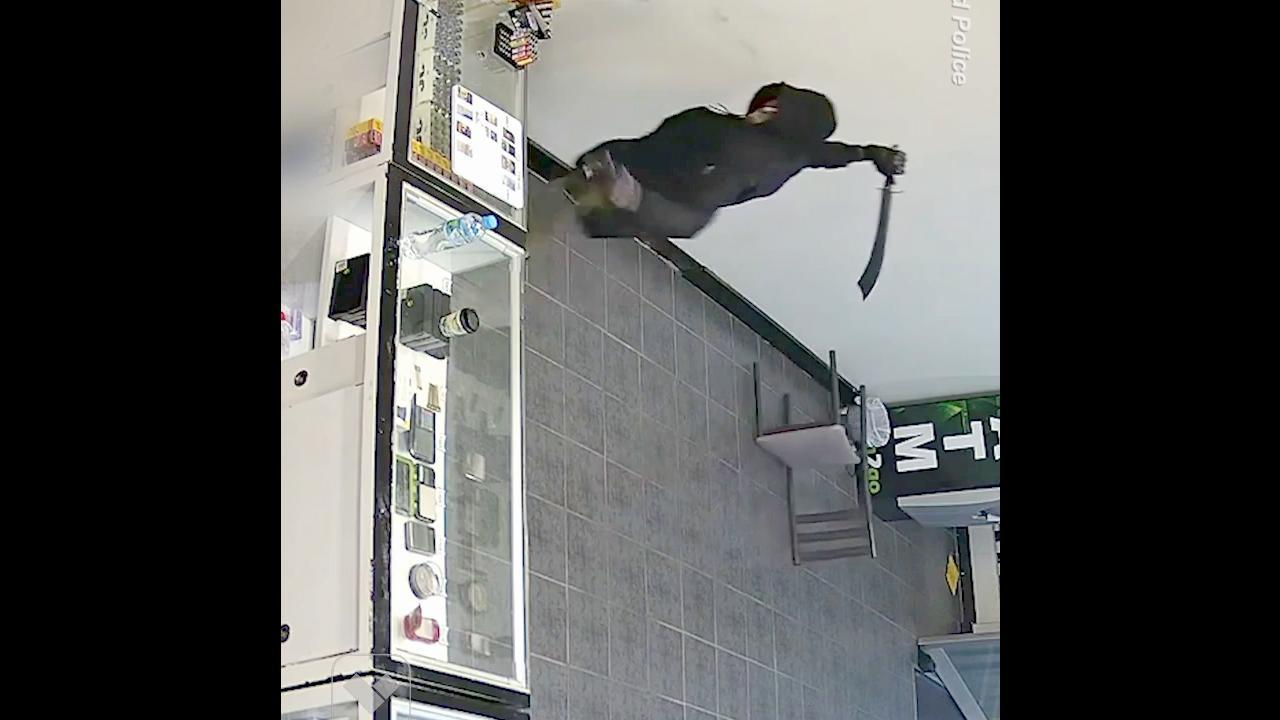melee: (852, 163, 907, 302)
